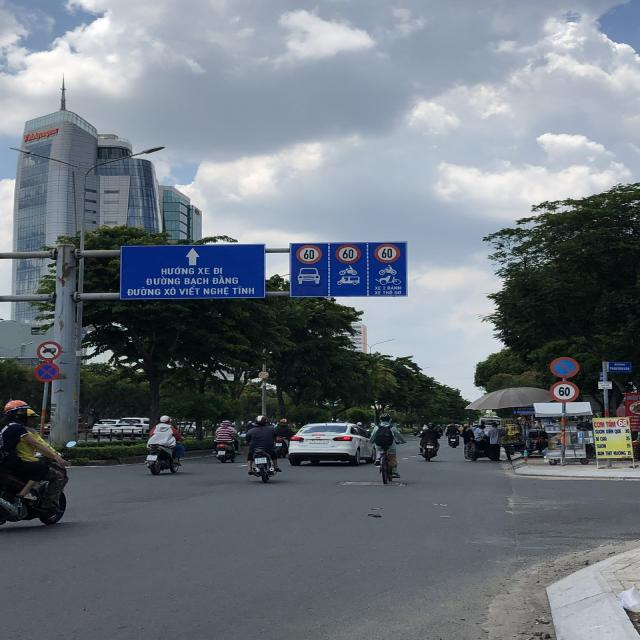Bien bao cam do xe: (546, 354, 582, 379)
Bien bao cam dung xe va do xe: (34, 361, 61, 383)
Bien bao cam xe oto tai: (37, 337, 62, 362)
Bien bao toc do toi da cho phep: (370, 242, 406, 264), (549, 380, 582, 402), (334, 243, 363, 266), (294, 242, 324, 264)
